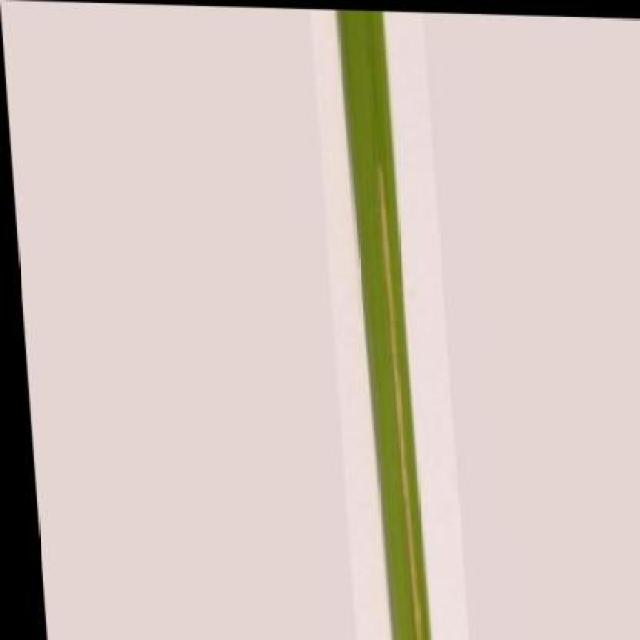Brown_Spot: (328, 7, 428, 640)
